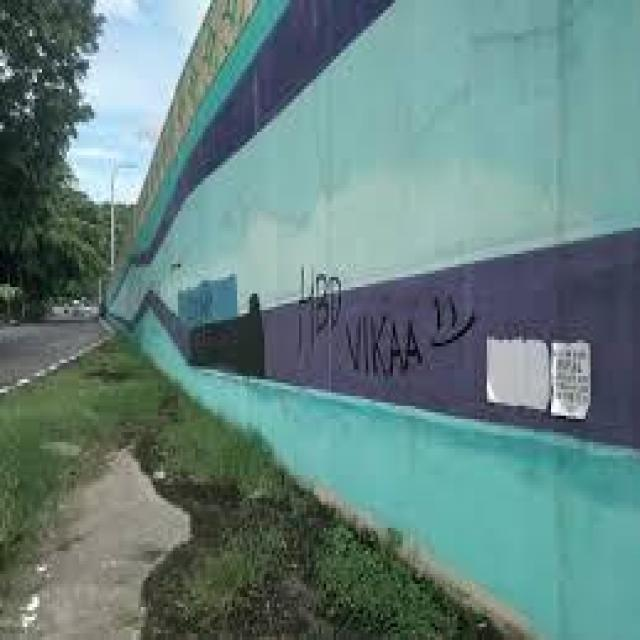nonspitting: (301, 260, 477, 374)
